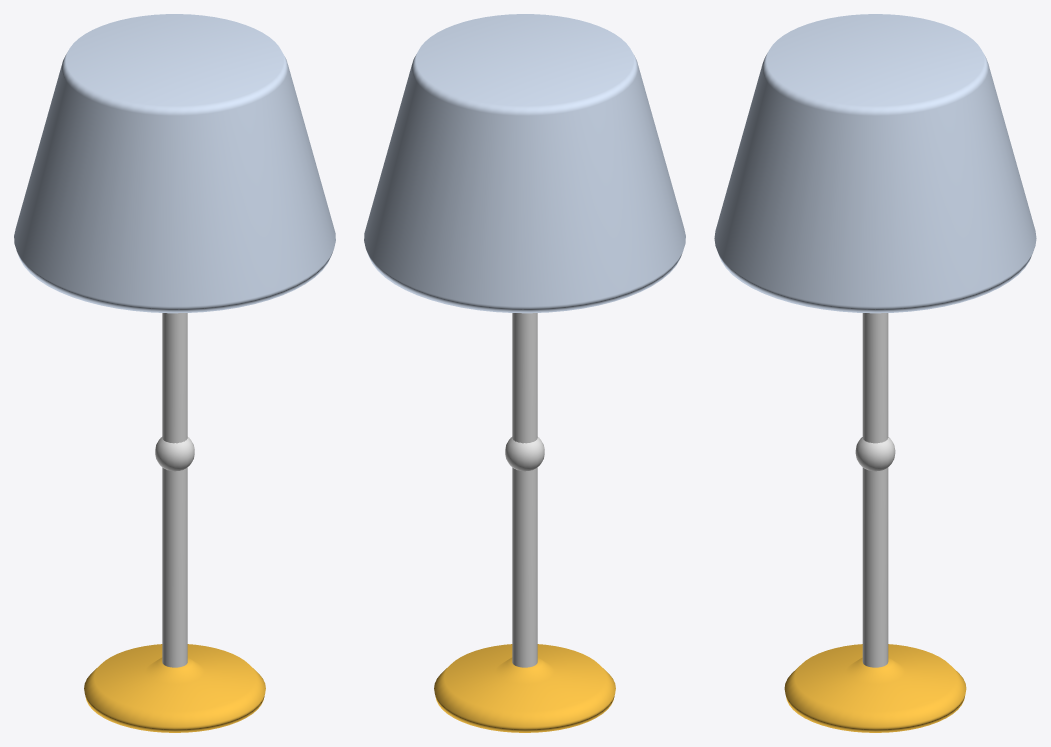
File: BigBadVacuumLamp.obj
3 renders of one model, left to right at view 1: azimuth 30°, elevation 25°; view 2: azimuth 150°, elevation 25°; view 3: azimuth 270°, elevation 25°, orthographic.
Parts seen in each view (by area): view 1: Shade, Foot, Pole; view 2: Shade, Foot, Pole; view 3: Shade, Foot, Pole.
Part boxes in pixels (<box>): Shade: <box>14,14,335,313</box>; Foot: <box>84,644,265,732</box>; Pole: <box>155,313,194,667</box>; Shade: <box>364,14,685,313</box>; Foot: <box>434,644,615,732</box>; Pole: <box>505,313,544,667</box>; Shade: <box>714,14,1036,313</box>; Foot: <box>784,644,966,732</box>; Pole: <box>855,313,895,667</box>.
Bounding box in the file's own units: 21.6 × 47 × 21.6.
